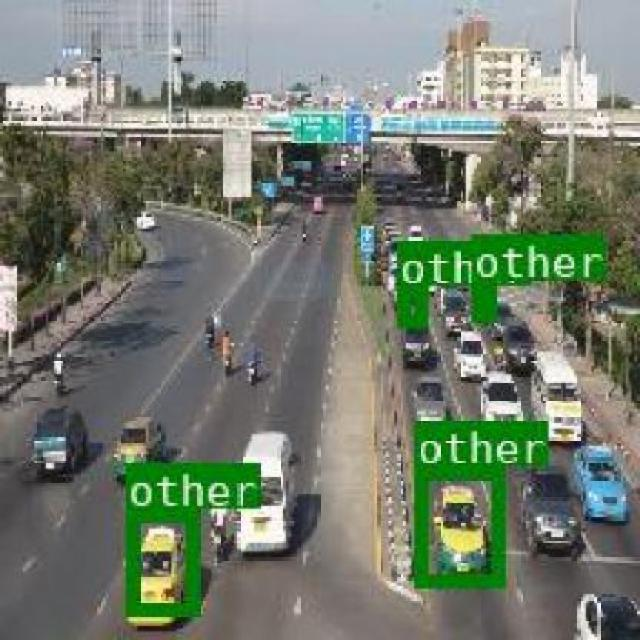other: (412, 463, 503, 585), (122, 506, 195, 612), (394, 283, 424, 323), (468, 278, 494, 320)
